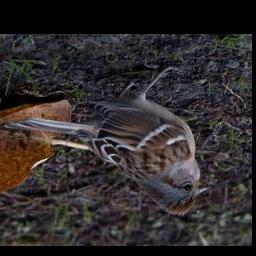Sparrow: (2, 61, 214, 218)
